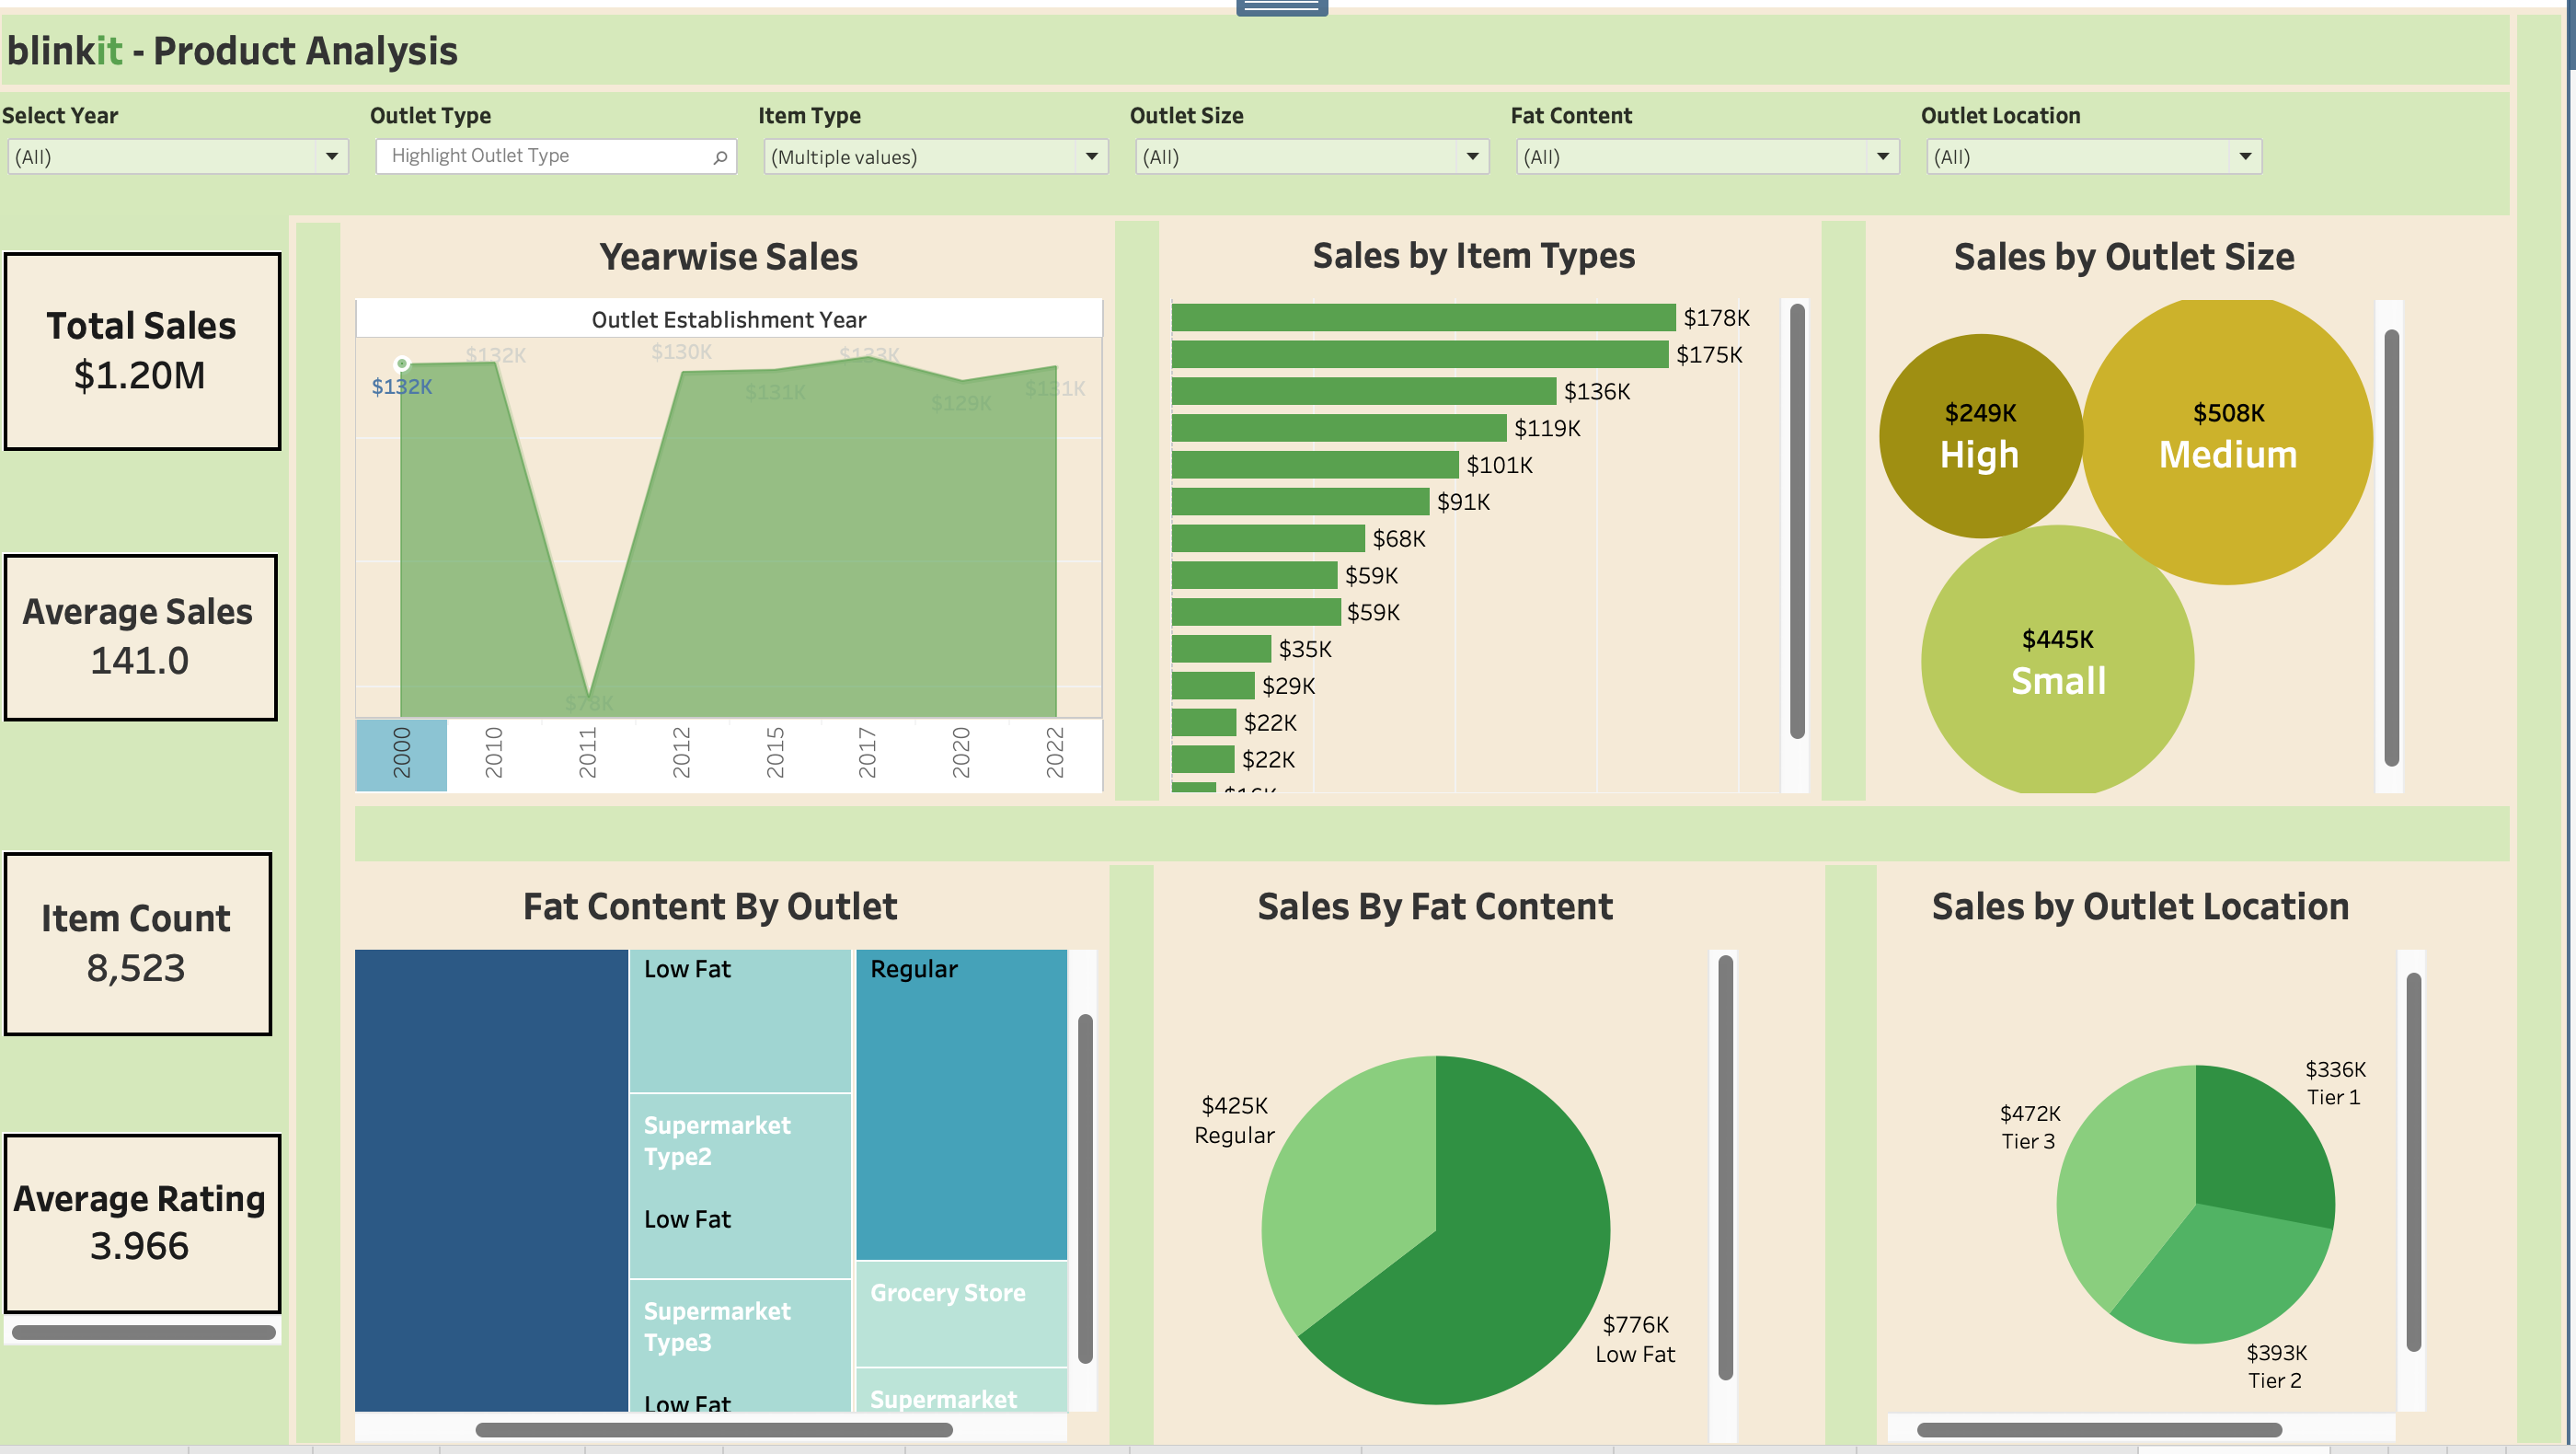

The dashboard page shown, as its layout file describes it:
{"tool":"tableau","page":{"name":"Dashboard 1","canvas":[1000,1000],"units":"permille","ordinal":0},"visuals":[{"type":"text","box":[0,10,976.4,57.5]},{"type":"blank","box":[976.4,10,22.9,980]},{"type":"filter","title":"Yearwise Sales","param":"[federated.1uedyuv0p1hrad163hqcf0emo8q4].[yr:Outlet Establishment Year:ok]","box":[0,67.5,142.8,83.8]},{"type":"highlighter","title":"Fat Content by Outlet","param":"[federated.1uedyuv0p1hrad163hqcf0emo8q4].[none:Outlet Type:nk]","box":[142.8,67.5,150.7,83.8]},{"type":"filter","title":" Sales by ItemType","param":"[federated.1uedyuv0p1hrad163hqcf0emo8q4].[none:Item Type:nk]","box":[293.6,67.5,144.3,83.8]},{"type":"filter","title":"Sales by Outlet size","param":"[federated.1uedyuv0p1hrad163hqcf0emo8q4].[none:Outlet Size:nk]","box":[437.8,67.5,147.8,83.8]},{"type":"filter","title":"Sales by Fat Content","param":"[federated.1uedyuv0p1hrad163hqcf0emo8q4].[none:Calculation_264023542924603394:nk","box":[585.7,67.5,159.3,83.8]},{"type":"filter","title":"Sales by Outlet Location","param":"[federated.1uedyuv0p1hrad163hqcf0emo8q4].[none:Outlet Location Type:nk]","box":[745,67.5,140.7,83.8]},{"type":"worksheet","title":"Tot Sales","mark":"Text","box":[0,151.2,114.3,165]},{"type":"blank","box":[114.3,151.2,22.9,838.8]},{"type":"worksheet","title":"Yearwise Sales","mark":"Automatic","rows":["Sales","Sales"],"cols":["Outlet Establishment Year"],"box":[137.2,151.2,296.4,397.5]},{"type":"blank","box":[433.6,151.2,20,397.5]},{"type":"worksheet","title":" Sales by ItemType","mark":"Automatic","rows":["Item Type"],"cols":["Sales"],"box":[453.6,151.2,254.3,397.5]},{"type":"blank","box":[707.8,151.2,20,397.5]},{"type":"worksheet","title":"Sales by Outlet size","mark":"Circle","box":[727.8,151.2,248.6,397.5]},{"type":"worksheet","title":"Avg Sales","mark":"Text","box":[0,356.2,114.3,202.5]},{"type":"blank","box":[137.2,548.8,839.3,43.8]},{"type":"worksheet","title":"No of items","mark":"Automatic","box":[0,558.8,114.3,191.2]},{"type":"worksheet","title":"Fat Content by Outlet","mark":"Automatic","box":[137.2,592.5,294.3,397.5]},{"type":"blank","box":[431.4,592.5,20,397.5]},{"type":"worksheet","title":"Sales by Fat Content","mark":"Pie","box":[451.4,592.5,257.9,397.5]},{"type":"blank","box":[709.3,592.5,22.9,397.5]},{"type":"worksheet","title":"Sales by Outlet Location","mark":"Pie","box":[732.1,592.5,215,397.5]},{"type":"worksheet","title":"Avg Rating","mark":"Automatic","box":[0,750,114.3,175]}]}

Visuals, with their boxes on the dashboard's canvas, which has no fixed pixel size, in thousandths of its width and height (x1, y1, x2, y2). These are canvas units, not pixel positions in the 2576x1454 screenshot, which may show the page scaled, cropped or inside an application window:
text: (0,10,976,68)
blank: (976,10,999,990)
"Yearwise Sales" filter: (0,68,143,151)
"Fat Content by Outlet" highlighter: (143,68,294,151)
" Sales by ItemType" filter: (294,68,438,151)
"Sales by Outlet size" filter: (438,68,586,151)
"Sales by Fat Content" filter: (586,68,745,151)
"Sales by Outlet Location" filter: (745,68,886,151)
"Tot Sales" worksheet (Text marks): (0,151,114,316)
blank: (114,151,137,990)
"Yearwise Sales" worksheet: (137,151,434,549)
blank: (434,151,454,549)
" Sales by ItemType" worksheet: (454,151,708,549)
blank: (708,151,728,549)
"Sales by Outlet size" worksheet (Circle marks): (728,151,976,549)
"Avg Sales" worksheet (Text marks): (0,356,114,559)
blank: (137,549,976,593)
"No of items" worksheet: (0,559,114,750)
"Fat Content by Outlet" worksheet: (137,592,432,990)
blank: (431,592,451,990)
"Sales by Fat Content" worksheet (Pie marks): (451,592,709,990)
blank: (709,592,732,990)
"Sales by Outlet Location" worksheet (Pie marks): (732,592,947,990)
"Avg Rating" worksheet: (0,750,114,925)
